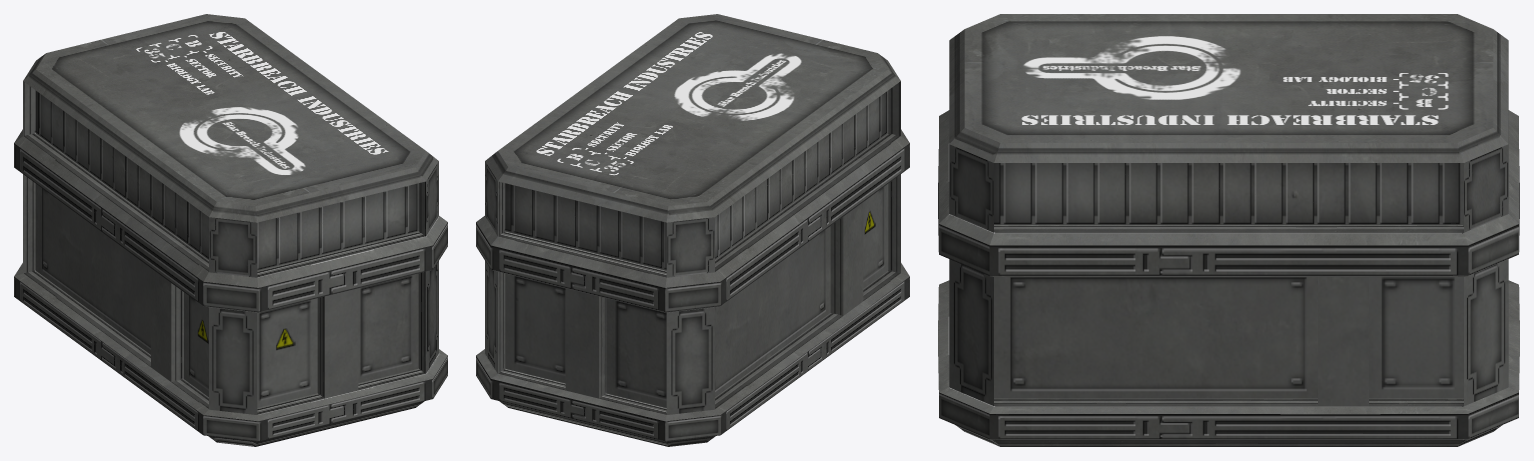
The model's file is Obj_Crate_2.FBX.
3 renders of one model, left to right at view 1: azimuth 30°, elevation 25°; view 2: azimuth 150°, elevation 25°; view 3: azimuth 270°, elevation 25°, orthographic. The views are drawn at different scales.
Parts seen in each view (by area): view 1: Crate_2; view 2: Crate_2; view 3: Crate_2.
Part boxes in pixels (bbox=[...]): Crate_2: bbox=[14, 14, 447, 446]; Crate_2: bbox=[476, 14, 909, 446]; Crate_2: bbox=[938, 14, 1519, 446].
Size of the model in its own units: 1.6 by 1.5 by 2.6.
